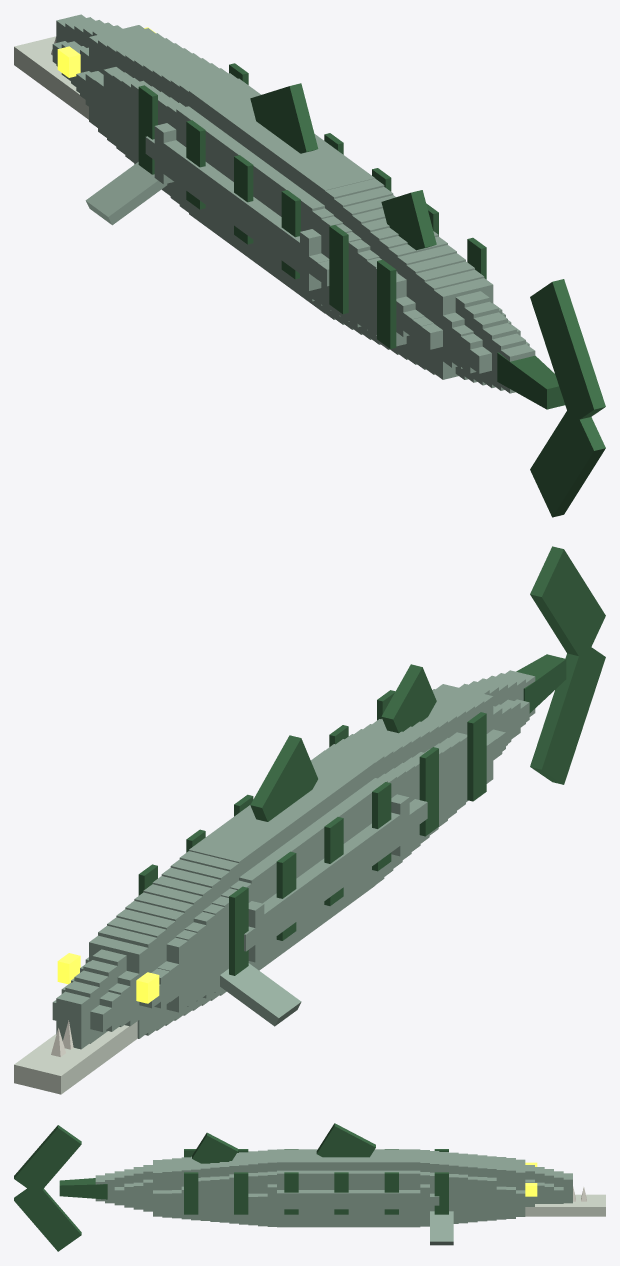
The model's file is Barracuda.glb.
The picture shows the model from 3 angles, top to bottom: view 1: azimuth 30°, elevation 25°; view 2: azimuth 150°, elevation 25°; view 3: azimuth 270°, elevation 25°; orthographic projection. The views are drawn at different scales.
Parts seen in each view (by area): view 1: Barracuda_Body, Barracuda_Accent, Barracuda_TailFin, Barracuda_Tail, Barracuda_Jaw; view 2: Barracuda_Body, Barracuda_Accent, Barracuda_TailFin, Barracuda_Jaw, Barracuda_Tail, Barracuda_Glow; view 3: Barracuda_Body, Barracuda_Accent, Barracuda_TailFin, Barracuda_Jaw, Barracuda_Tail, Barracuda_Glow.
Boxes of the visible parts, x1,y1,x2,y2 form: Barracuda_Body: [52, 14, 535, 393]; Barracuda_Accent: [138, 63, 486, 348]; Barracuda_TailFin: [530, 279, 605, 517]; Barracuda_Tail: [497, 352, 564, 409]; Barracuda_Jaw: [14, 36, 88, 119]; Barracuda_Body: [52, 670, 535, 1049]; Barracuda_Accent: [138, 664, 486, 975]; Barracuda_TailFin: [530, 546, 605, 784]; Barracuda_Jaw: [14, 1021, 137, 1094]; Barracuda_Tail: [516, 654, 566, 713]; Barracuda_Glow: [57, 953, 159, 1003]; Barracuda_Body: [95, 1149, 572, 1245]; Barracuda_Accent: [184, 1123, 448, 1214]; Barracuda_TailFin: [14, 1125, 81, 1251]; Barracuda_Jaw: [525, 1194, 605, 1216]; Barracuda_Tail: [59, 1178, 107, 1199]; Barracuda_Glow: [525, 1162, 537, 1196].
Bounding box in the file's own units: 0.9837 × 1.16 × 4.96.
